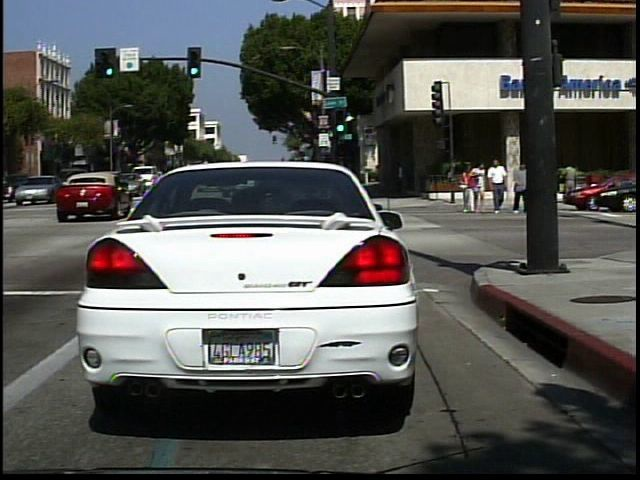person: (558, 157, 584, 206), (490, 158, 510, 214), (460, 163, 479, 216), (510, 156, 528, 211), (474, 159, 489, 213)
